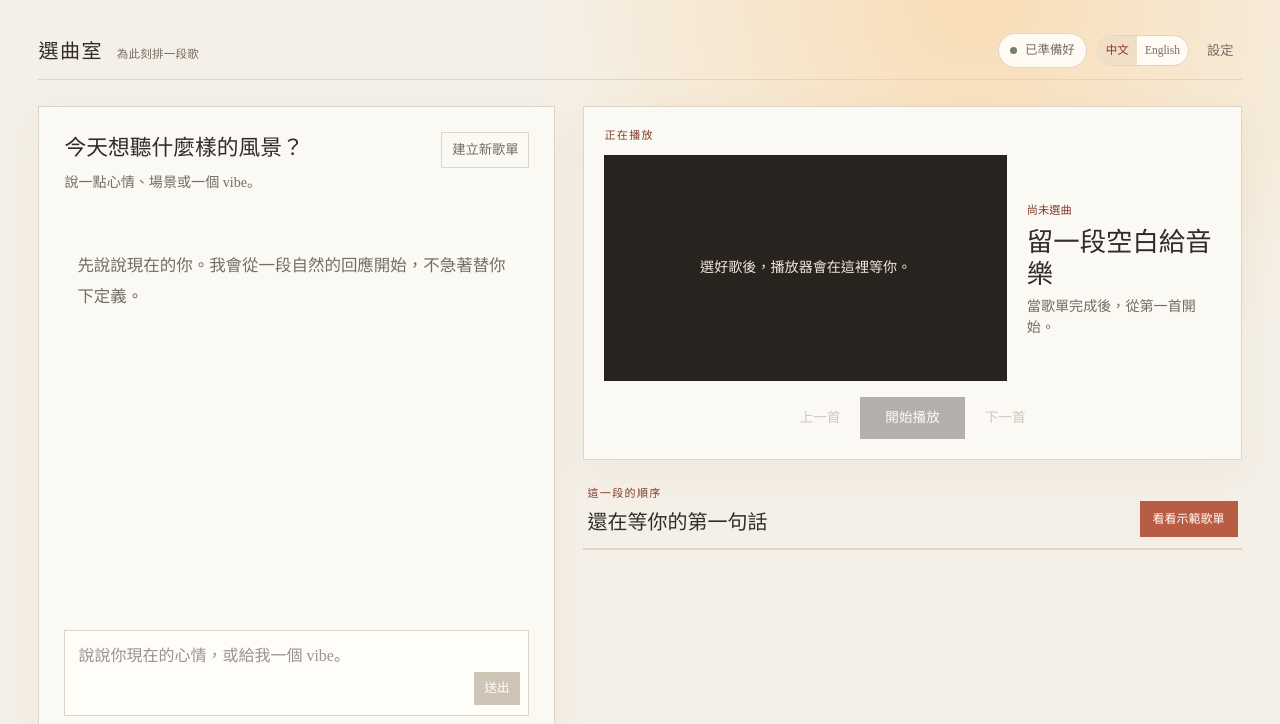
Scenario: Pedelec submit flow › preserves only natural language from a mixed draft on send failure
Type "檢查 OAuth" into the text box with placeholder "說說你現在的心情，或給我一個 vibe。" at (297, 673), box x1=64 y1=630 x2=530 y2=716
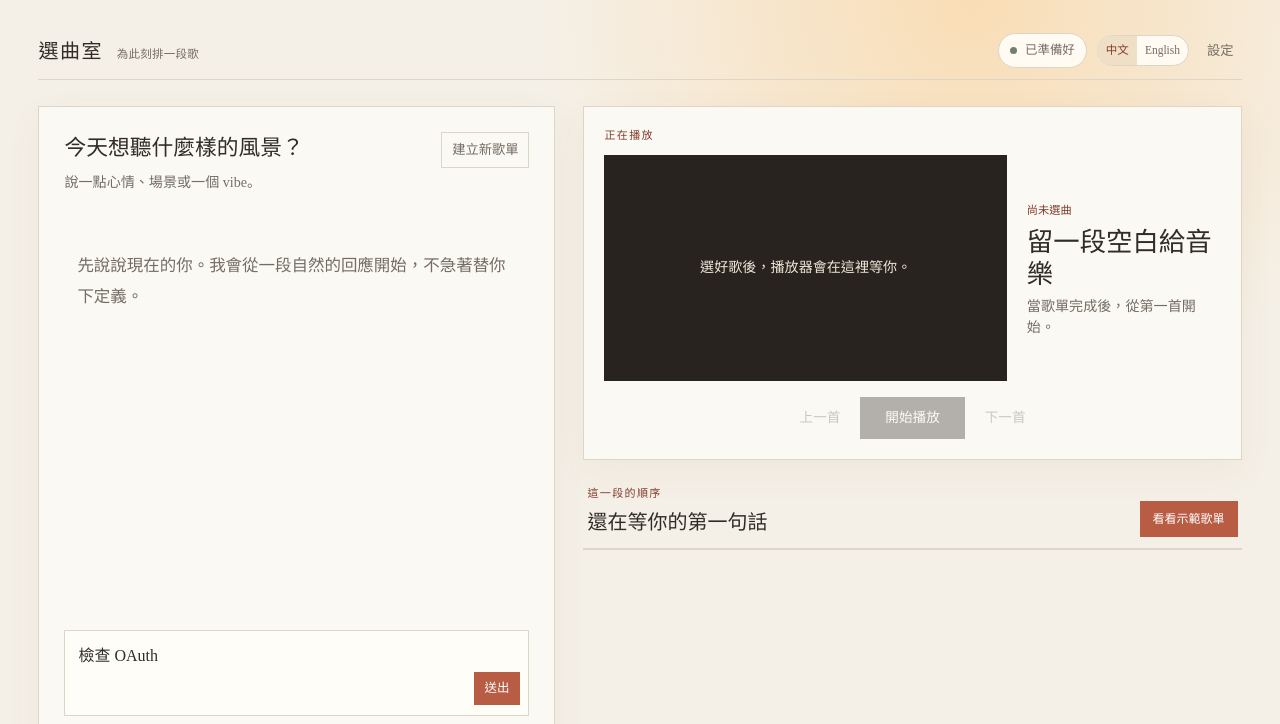
Click the button with aria-label "送出選曲需求" at (497, 688), box x1=474 y1=672 x2=520 y2=705
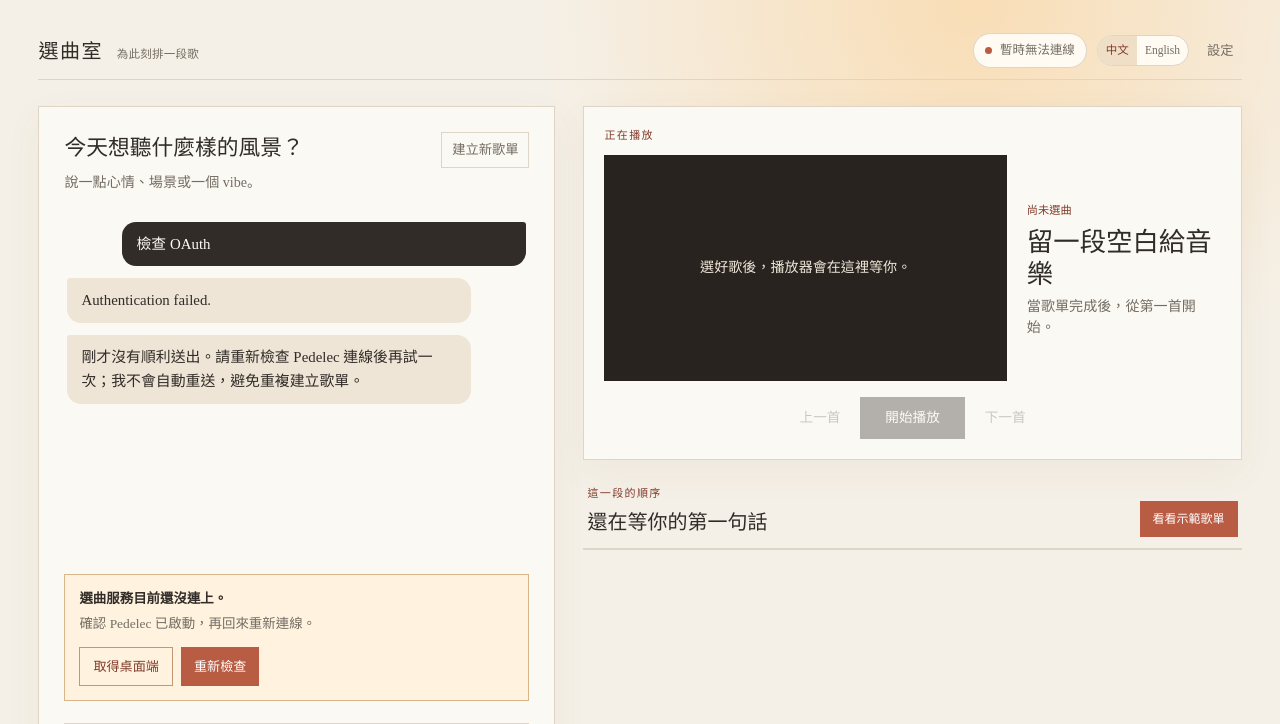
Expected: the text "Authentication failed." is shown once, x1=81 y1=292 x2=211 y2=308
Expected: the text "剛才沒有順利送出。請重新檢查 Pedelec 連線後再試一次；我不會自動重送，避免重複建立歌單。" is shown once, x1=81 y1=345 x2=457 y2=394
